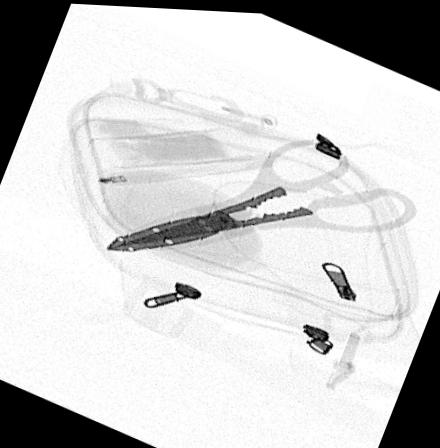Scissors: (100, 129, 421, 253)
